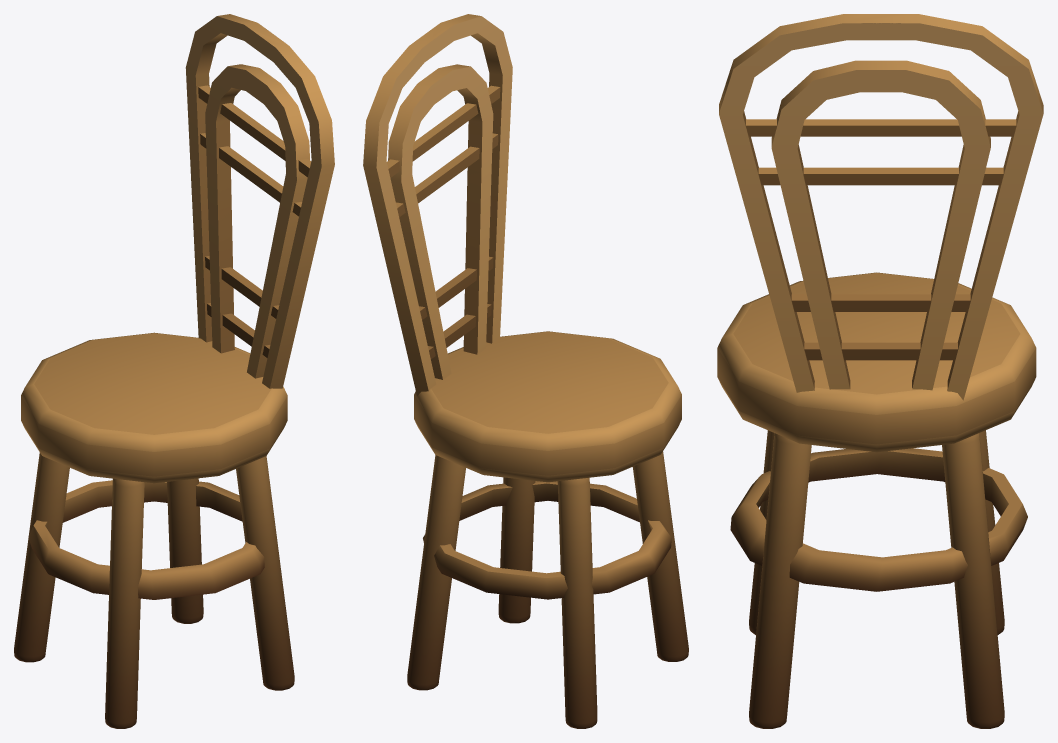
Rendered from chair.fbx.
3 renders of one model, left to right at view 1: azimuth 30°, elevation 25°; view 2: azimuth 150°, elevation 25°; view 3: azimuth 270°, elevation 25°, orthographic. The views are drawn at different scales.
Visible parts, largest first — view 1: Cylinder.068; view 2: Cylinder.068; view 3: Cylinder.068.
Boxes of the visible parts, <box> form: Cylinder.068: <box>14,14,334,728</box>; Cylinder.068: <box>363,14,688,728</box>; Cylinder.068: <box>717,14,1043,728</box>.
Bounding box in the file's own units: 23.08 × 56.56 × 23.07.
